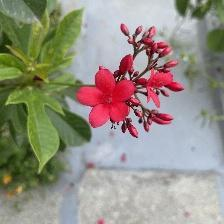jatropha: (77, 70, 138, 130)
